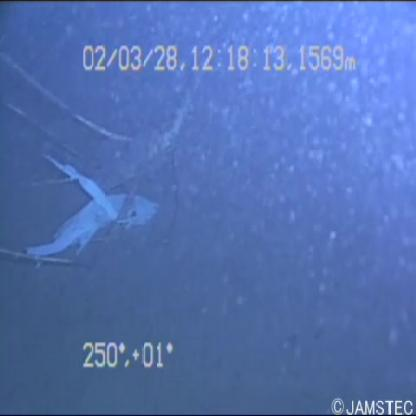Rác: (16, 148, 163, 282)
